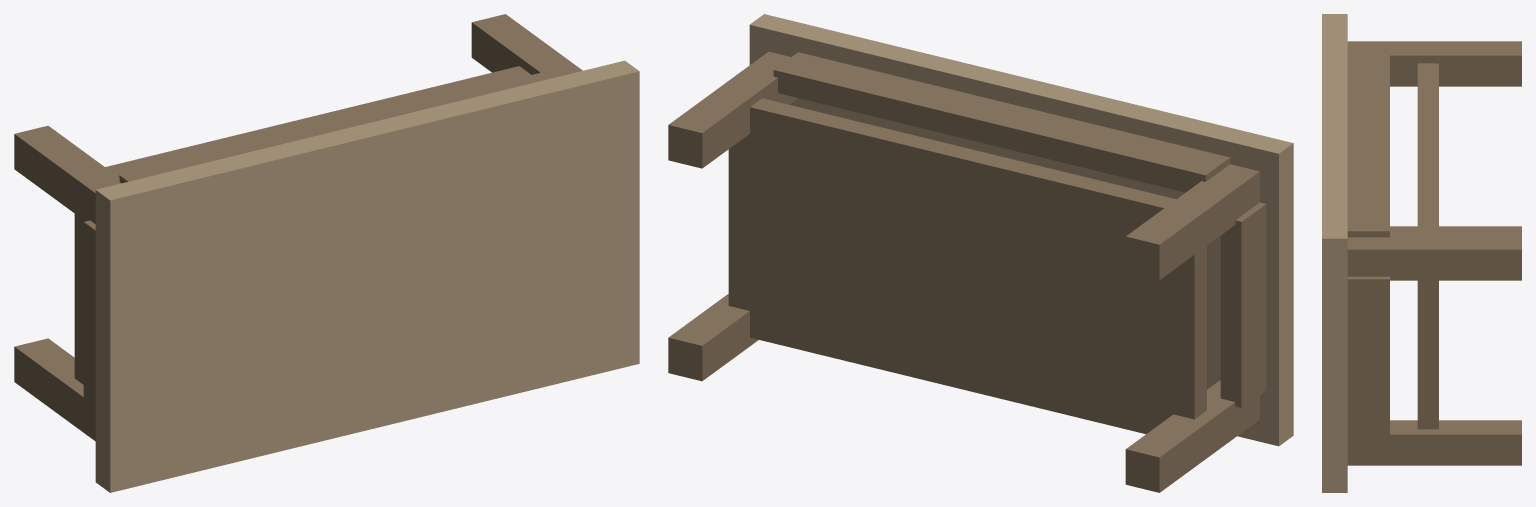
File: CoffeeTable.glb
3 renders of one model, left to right at view 1: azimuth 30°, elevation 25°; view 2: azimuth 150°, elevation 25°; view 3: azimuth 270°, elevation 25°, orthographic. The views are drawn at different scales.
Parts seen in each view (by area): view 1: FTF_Interior_CoffeeTable_Wood_v1_Top, FTF_Interior_CoffeeTable_Wood_v1_Shelf, FTF_Interior_CoffeeTable_Wood_v1_Leg2, FTF_Interior_CoffeeTable_Wood_v1_Leg0, FTF_Interior_CoffeeTable_Wood_v1_Leg3, FTF_Interior_CoffeeTable_Wood_v1_ApronBack, FTF_Interior_CoffeeTable_Wood_v1_ApronLeft; view 2: FTF_Interior_CoffeeTable_Wood_v1_Shelf, FTF_Interior_CoffeeTable_Wood_v1_Top, FTF_Interior_CoffeeTable_Wood_v1_ApronBack, FTF_Interior_CoffeeTable_Wood_v1_ApronLeft, FTF_Interior_CoffeeTable_Wood_v1_Leg2, FTF_Interior_CoffeeTable_Wood_v1_Leg0, FTF_Interior_CoffeeTable_Wood_v1_Leg3, FTF_Interior_CoffeeTable_Wood_v1_Leg1; view 3: FTF_Interior_CoffeeTable_Wood_v1_Top, FTF_Interior_CoffeeTable_Wood_v1_ApronBack, FTF_Interior_CoffeeTable_Wood_v1_Leg3, FTF_Interior_CoffeeTable_Wood_v1_ApronRight, FTF_Interior_CoffeeTable_Wood_v1_Shelf, FTF_Interior_CoffeeTable_Wood_v1_Leg1, FTF_Interior_CoffeeTable_Wood_v1_Leg2, FTF_Interior_CoffeeTable_Wood_v1_Leg0.
Part boxes in pixels (x1,y1,x2,y2): FTF_Interior_CoffeeTable_Wood_v1_Top: (95,60,639,492); FTF_Interior_CoffeeTable_Wood_v1_Shelf: (74,66,530,384); FTF_Interior_CoffeeTable_Wood_v1_Leg2: (14,125,120,223); FTF_Interior_CoffeeTable_Wood_v1_Leg0: (14,338,95,441); FTF_Interior_CoffeeTable_Wood_v1_Leg3: (471,14,582,76); FTF_Interior_CoffeeTable_Wood_v1_ApronBack: (119,70,559,183); FTF_Interior_CoffeeTable_Wood_v1_ApronLeft: (83,220,95,416); FTF_Interior_CoffeeTable_Wood_v1_Shelf: (728,98,1206,433); FTF_Interior_CoffeeTable_Wood_v1_Top: (749,14,1293,446); FTF_Interior_CoffeeTable_Wood_v1_ApronBack: (773,52,1230,192); FTF_Interior_CoffeeTable_Wood_v1_ApronLeft: (1220,202,1266,407); FTF_Interior_CoffeeTable_Wood_v1_Leg2: (1125,164,1259,279); FTF_Interior_CoffeeTable_Wood_v1_Leg0: (1125,380,1259,492); FTF_Interior_CoffeeTable_Wood_v1_Leg3: (668,51,797,168); FTF_Interior_CoffeeTable_Wood_v1_Leg1: (668,294,758,381); FTF_Interior_CoffeeTable_Wood_v1_Top: (1322,14,1347,492); FTF_Interior_CoffeeTable_Wood_v1_ApronBack: (1347,48,1389,237); FTF_Interior_CoffeeTable_Wood_v1_Leg3: (1347,235,1521,280); FTF_Interior_CoffeeTable_Wood_v1_ApronRight: (1347,276,1389,441); FTF_Interior_CoffeeTable_Wood_v1_Shelf: (1417,63,1438,429); FTF_Interior_CoffeeTable_Wood_v1_Leg1: (1347,420,1521,465); FTF_Interior_CoffeeTable_Wood_v1_Leg2: (1347,41,1521,86); FTF_Interior_CoffeeTable_Wood_v1_Leg0: (1390,226,1521,235).
Bounding box in the file's own units: 1.25 × 0.66 × 0.47.
